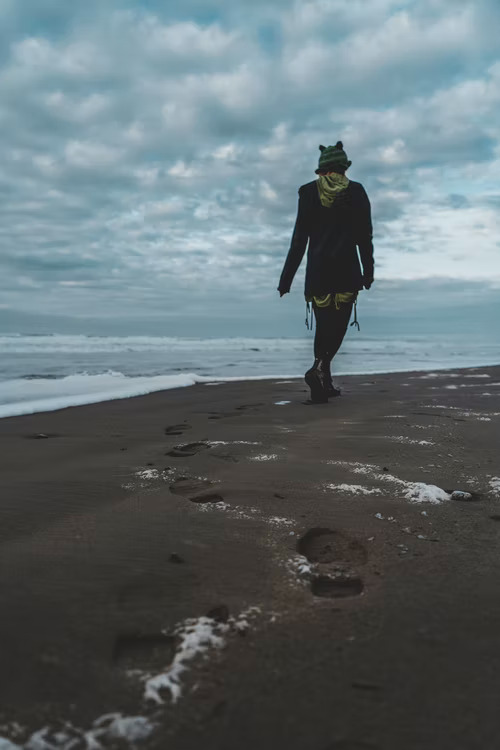person: (278, 146, 373, 396)
